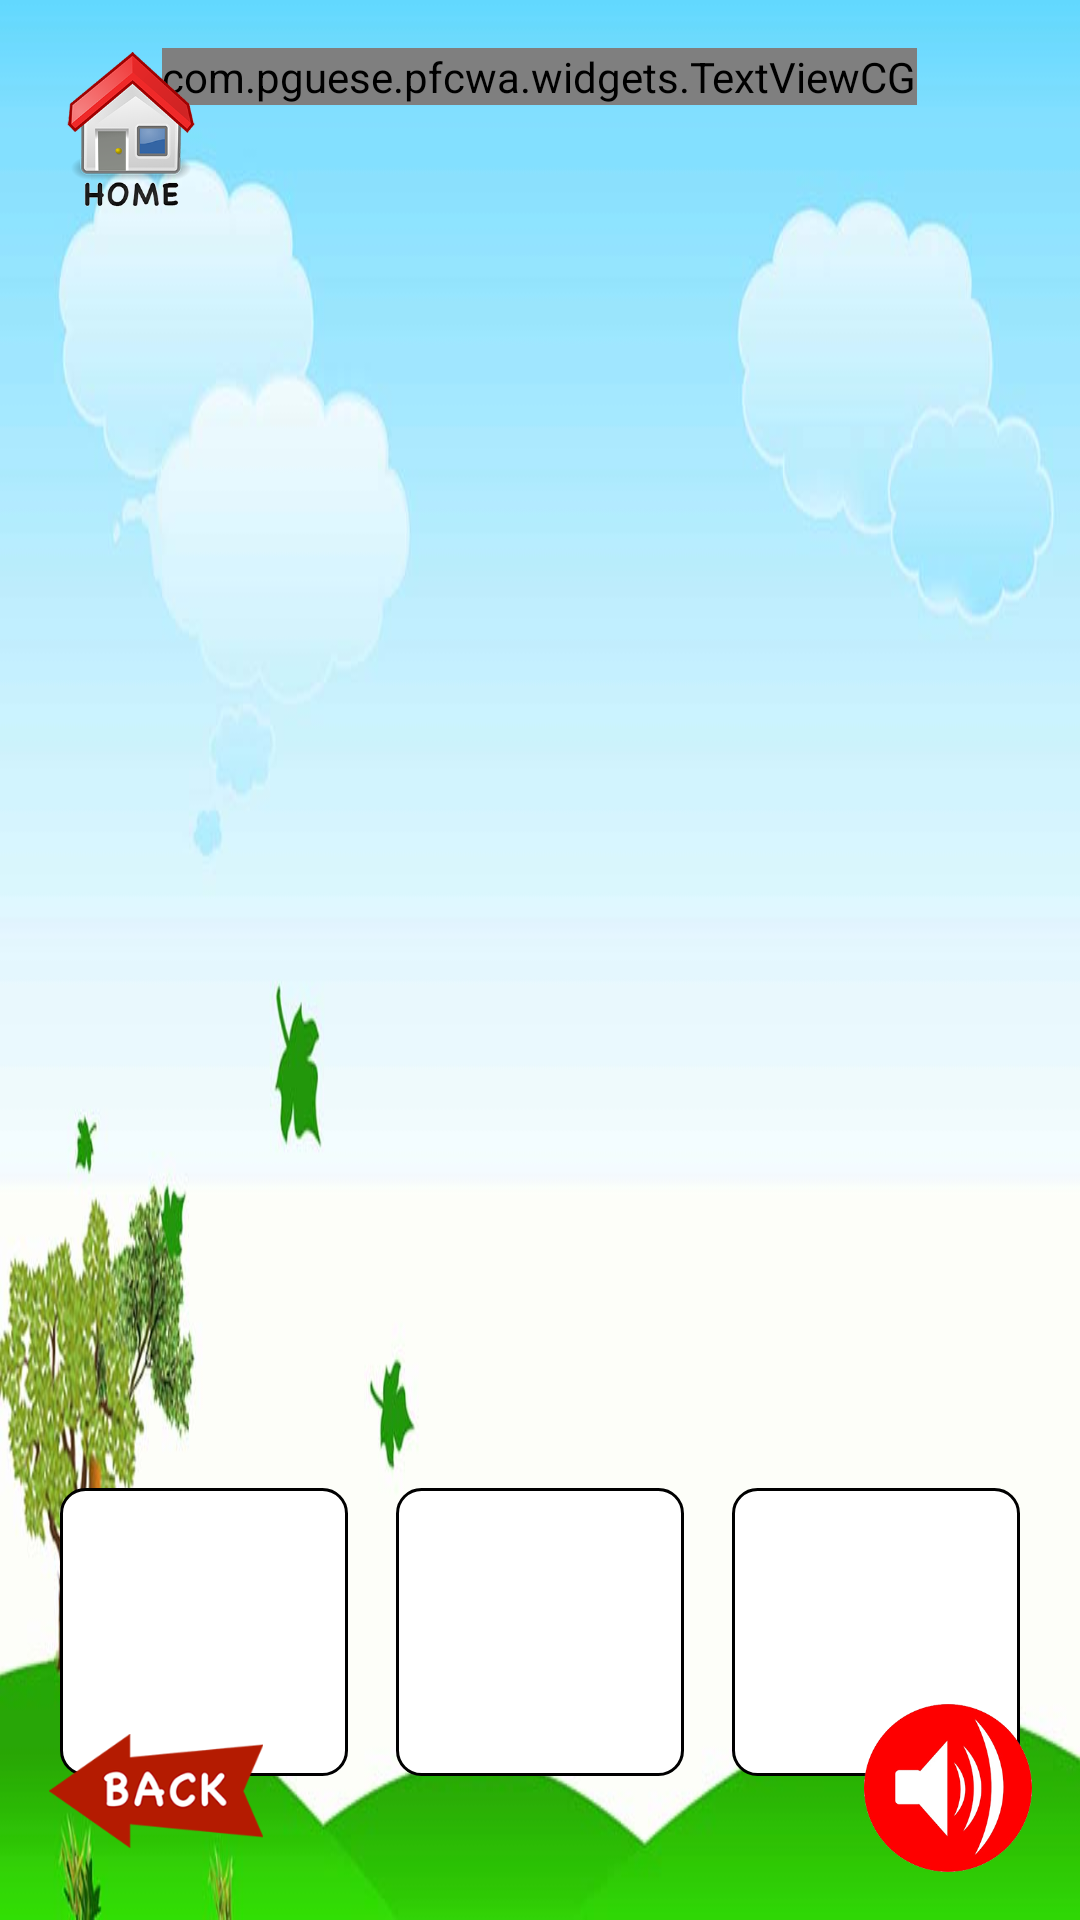

Where to tap for icons on this 1080 × 1920 app screen, as (x,y):
speak: (924,1764)
